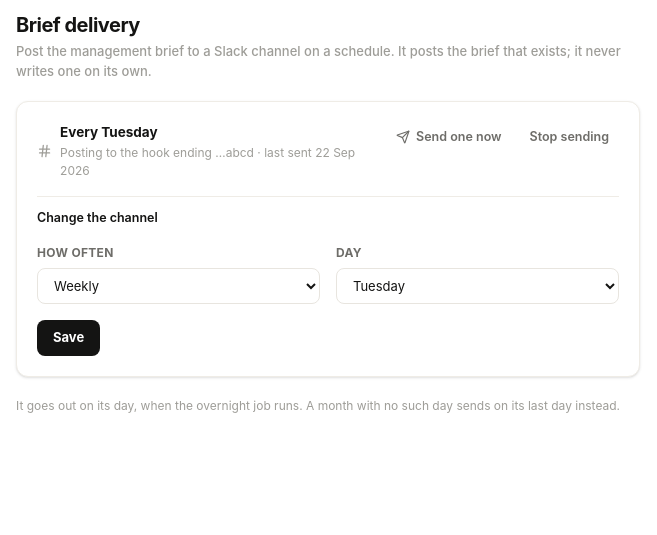
BriefDeliveryPage › refuses a destination the backend rejects, without losing what is set
This screenshot has width=657, height=535.
Expected: the text "Every Tuesday" is shown, x1=60 y1=124 x2=158 y2=140
Click the button "Change the channel" at {"x": 97, "y": 219}, box x1=37 y1=209 x2=158 y2=228
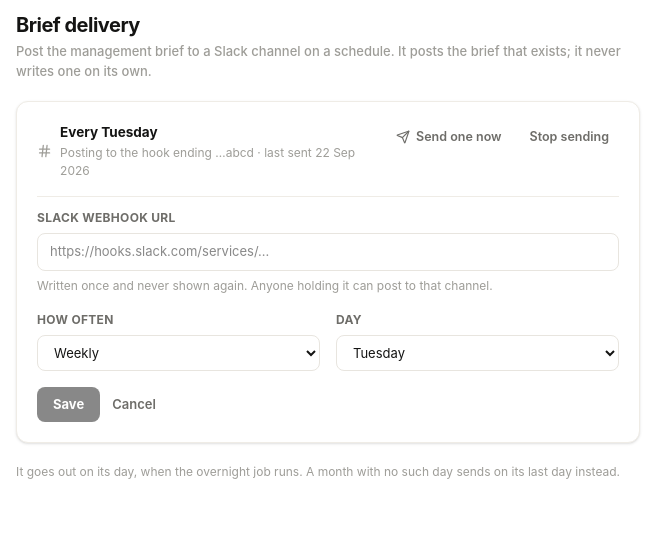
Type "https://example.com/hook" into the field labelled "Slack webhook URL" at {"x": 328, "y": 252}, box x1=37 y1=233 x2=619 y2=271
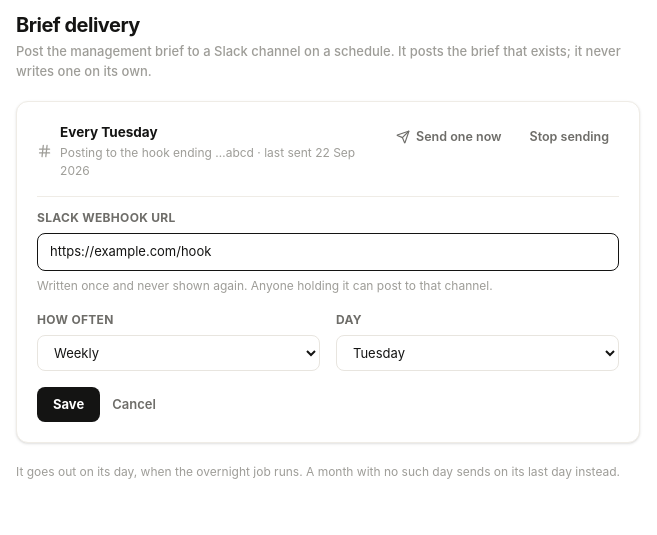
Click the button "Save" at {"x": 69, "y": 405}, box x1=37 y1=387 x2=100 y2=422
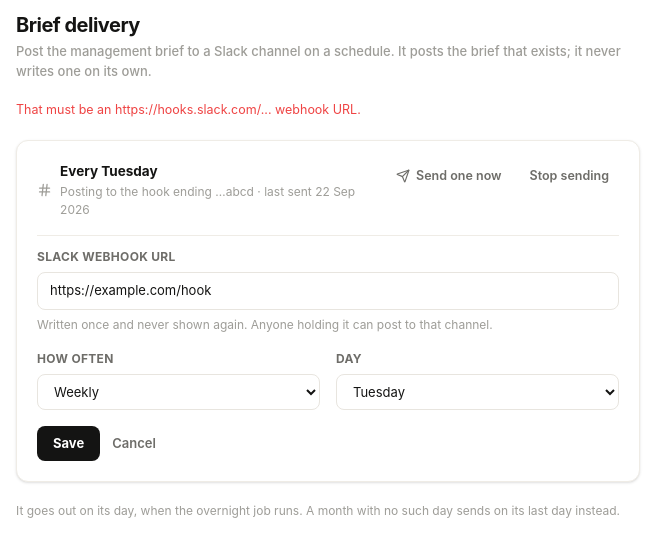
Expected: the text "Every Tuesday" is shown, x1=60 y1=163 x2=158 y2=179
Result: the message shows "hooks.slack.com" at x1=16 y1=102 x2=361 y2=117
